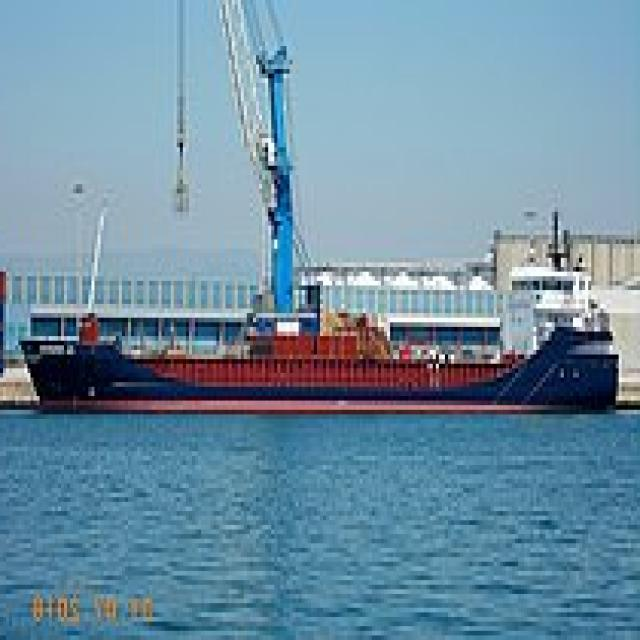Cargo: (18, 198, 625, 410)
